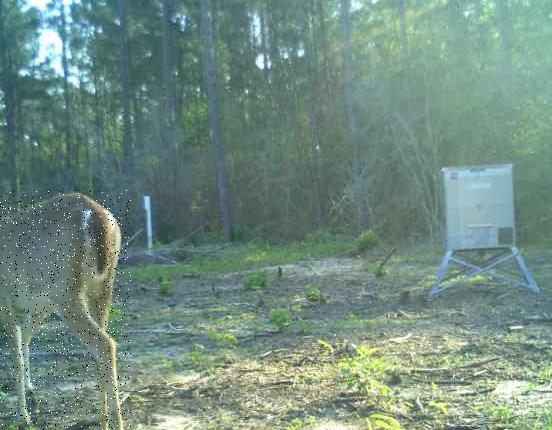Deer: (0, 190, 131, 430)
